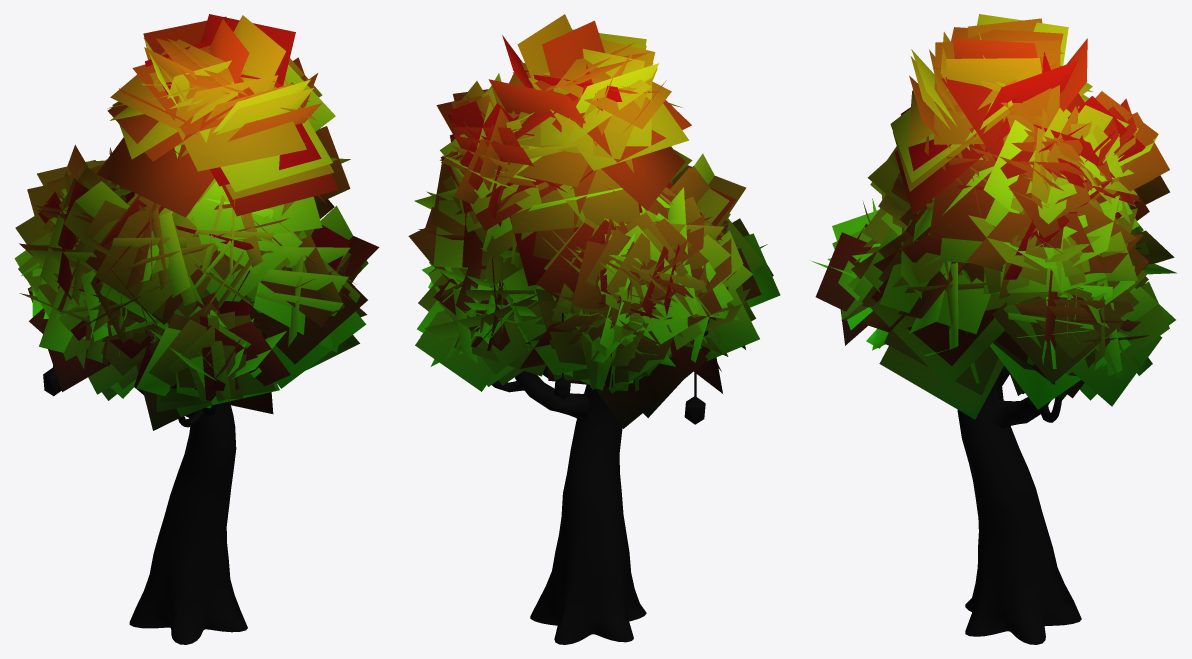
File: env_tree_bg_qt_common_2.fbx
3 views of the same model, side by side, from view 1: azimuth 30°, elevation 25°; view 2: azimuth 150°, elevation 25°; view 3: azimuth 270°, elevation 25° (orthographic). The views are drawn at different scales.
Visible parts, largest first — view 1: env_tree_bg_qt_common_2; view 2: env_tree_bg_qt_common_2; view 3: env_tree_bg_qt_common_2.
Boxes of the visible parts, <box> form: env_tree_bg_qt_common_2: <box>14,14,379,644</box>; env_tree_bg_qt_common_2: <box>408,14,780,644</box>; env_tree_bg_qt_common_2: <box>810,14,1176,644</box>.
Bounding box in the file's own units: 4.46 × 7.64 × 4.28.
